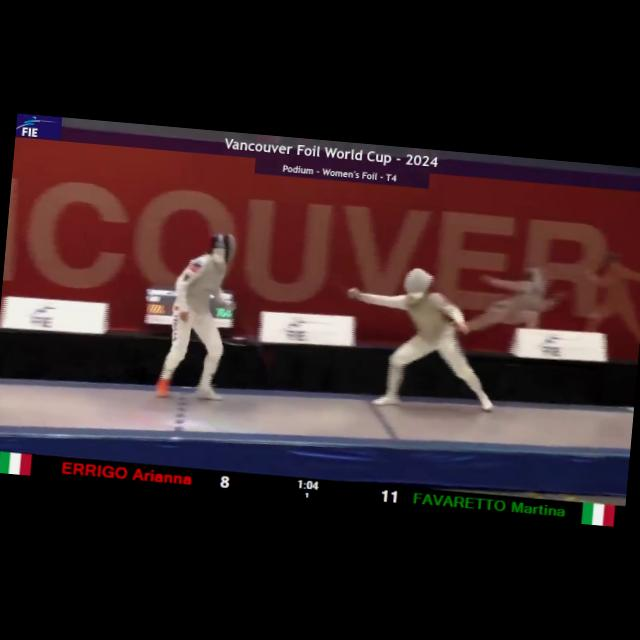blade: (220, 294, 276, 371)
